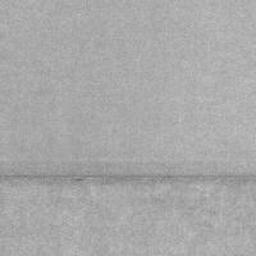Welding line: (0, 173, 256, 184)
